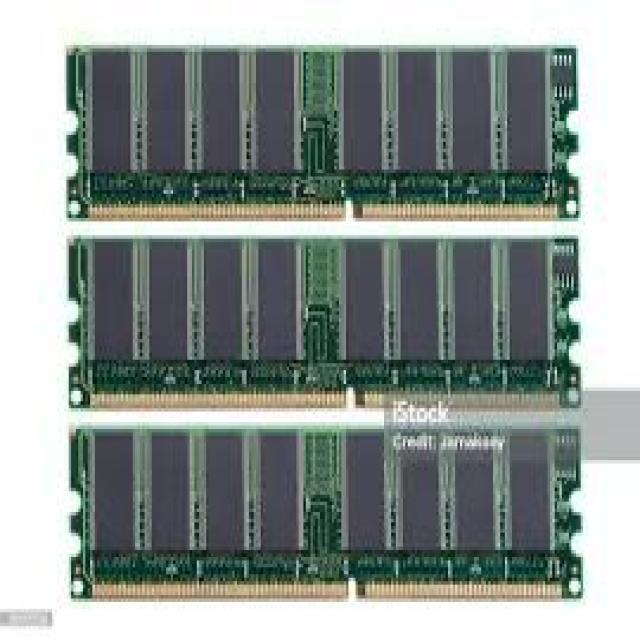Ram: (62, 66, 600, 604)
